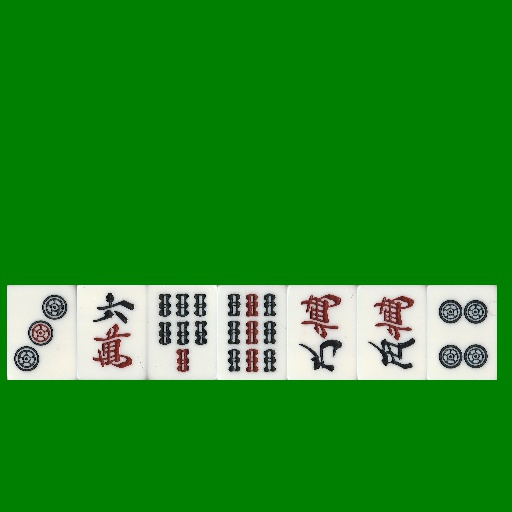3p: (7, 285, 77, 380)
4p: (427, 285, 497, 380)
5m: (357, 285, 427, 380)
6m: (77, 285, 147, 380)
7s: (147, 285, 217, 380)
9m: (287, 285, 357, 380)
9s: (217, 285, 287, 380)
